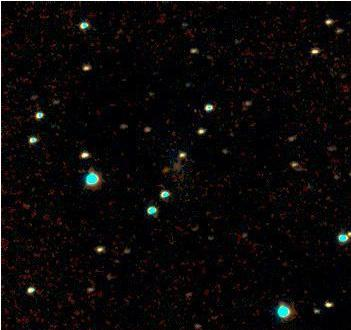star: (149, 157, 179, 187)
